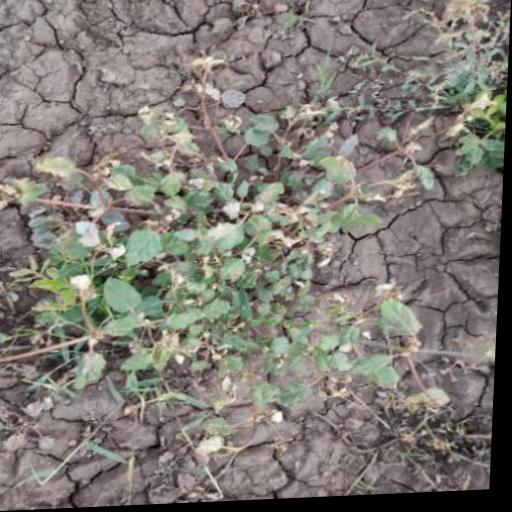weed: (0, 80, 393, 416), (424, 0, 511, 179)
